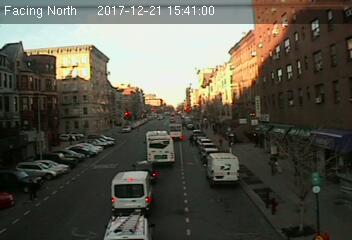bus: (145, 130, 175, 166)
truck: (110, 171, 152, 217), (203, 153, 241, 187)
